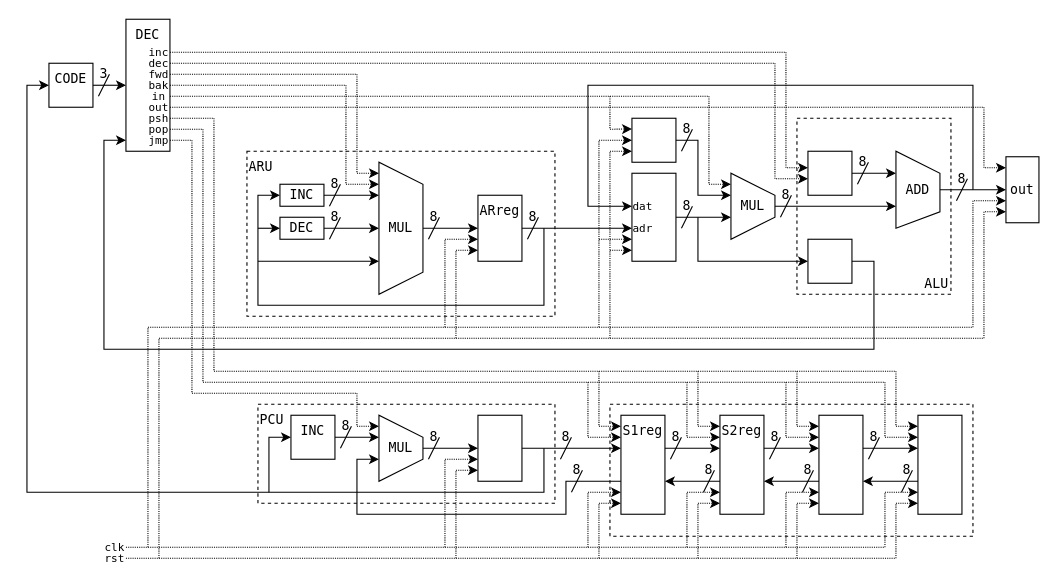
The diagram is 1058 pixels wide and 586 high, and some of its shapes have lost their labels. The box of each missing label's shape, as (x1, y1, x2, y2) in pixels:
ARG: (807, 150, 852, 195)
input: (631, 117, 676, 162)
MEM: (631, 172, 676, 261)
PCreg: (477, 414, 522, 481)
S3reg: (818, 414, 863, 514)
S4reg: (917, 414, 962, 514)
stack: (609, 403, 973, 536)
ZCHK: (807, 238, 852, 283)
